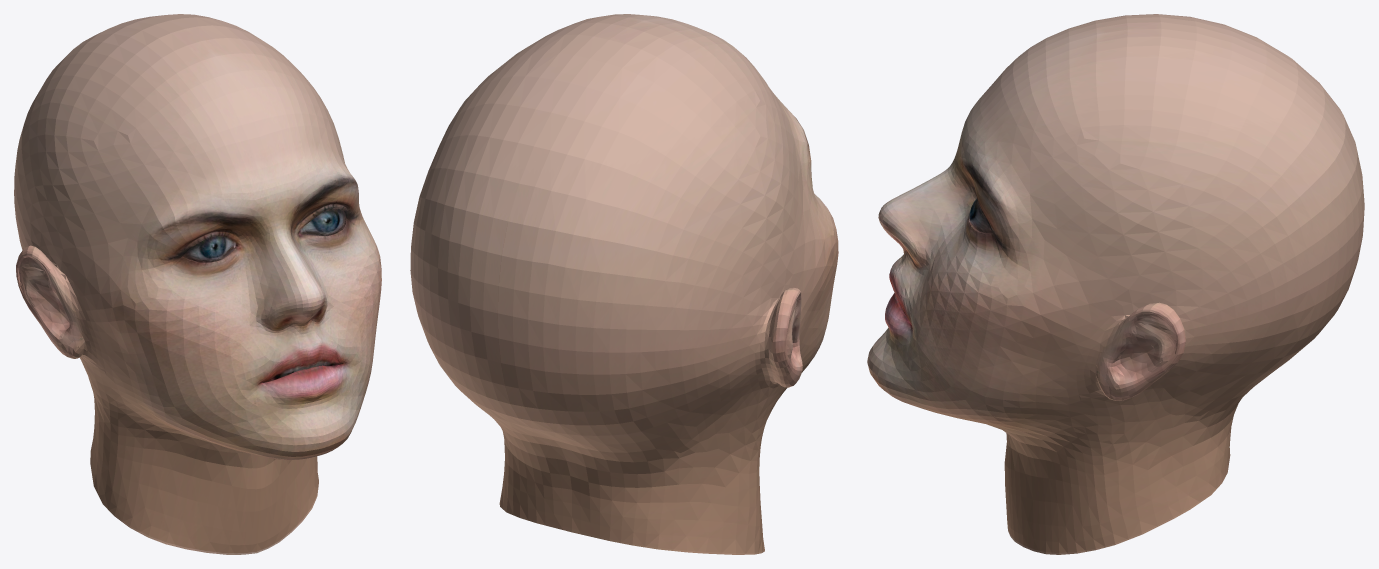
The model's file is Alexandra_Daddario.obj.
3 renders of one model, left to right at view 1: azimuth 30°, elevation 25°; view 2: azimuth 150°, elevation 25°; view 3: azimuth 270°, elevation 25°, orthographic. The views are drawn at different scales.
Visible parts, largest first — view 1: skin_hi, eyeR_hi, eyeL_hi; view 2: skin_hi; view 3: skin_hi.
Part boxes in pixels (<box>): skin_hi: <box>14,14,381,554</box>; eyeR_hi: <box>183,236,235,262</box>; eyeL_hi: <box>299,208,346,235</box>; skin_hi: <box>410,14,838,554</box>; skin_hi: <box>867,14,1364,554</box>.
Bounding box in the file's own units: 199 × 279 × 251.
